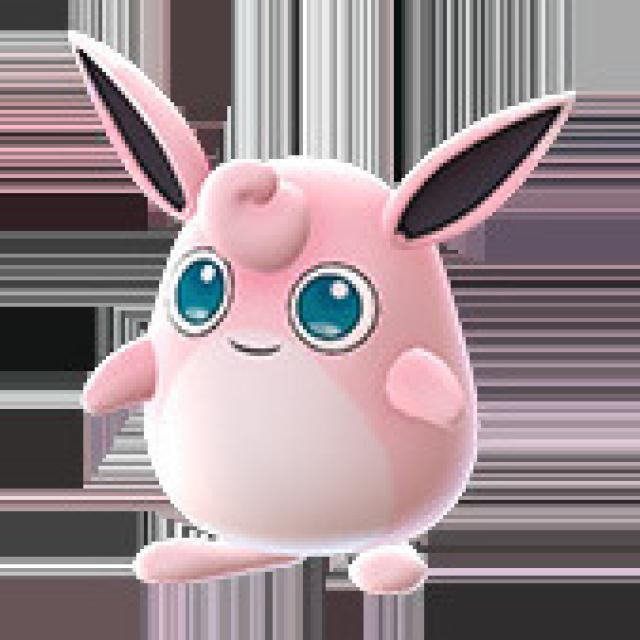Wigglytuff: (118, 140, 486, 600)
